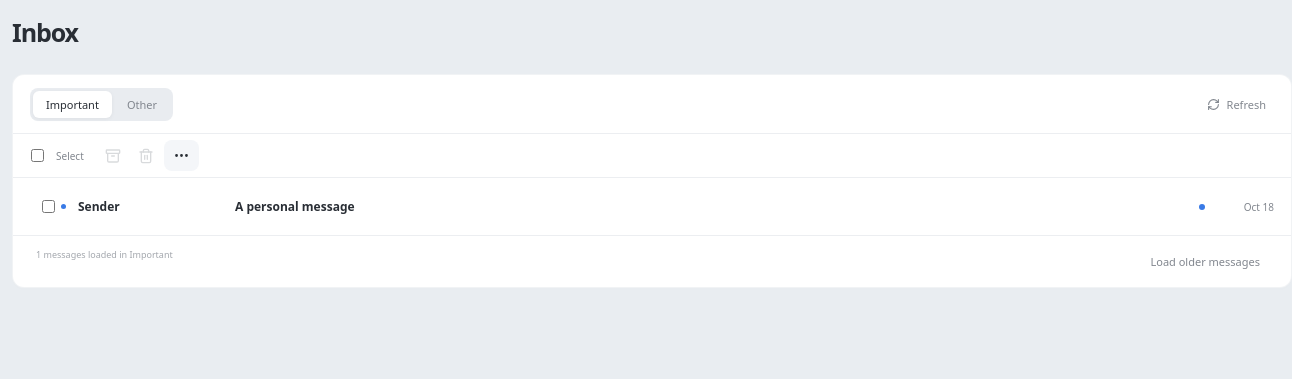
Test: personal Outlook reader › shows fetch failures and offers a retry without clearing existing metadata
Click the button "Refresh".
click(1236, 104)  # box [1199, 90, 1274, 118]
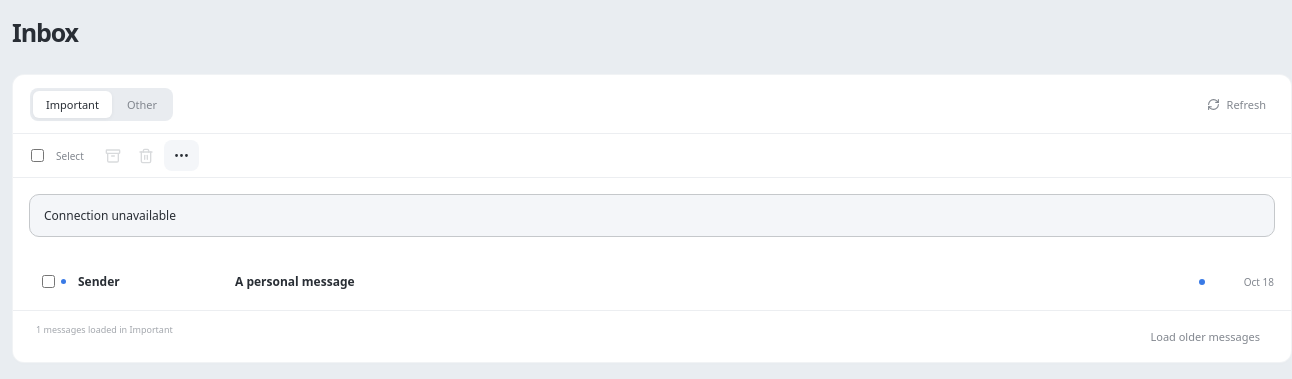
Check: the text "A personal message" is shown, box [235, 273, 355, 290]
Check: the message "Connection unavailable" is shown, box [29, 194, 1275, 237]
